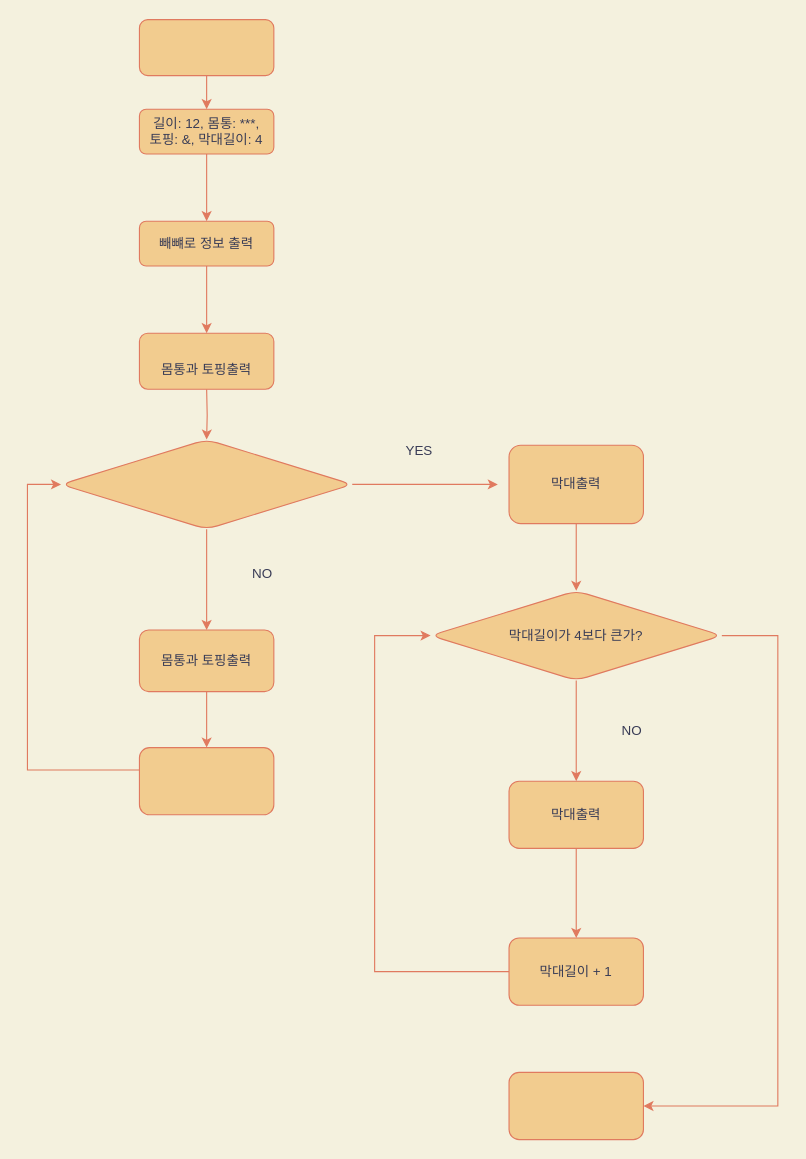
The diagram is 806 pixels wide and 1159 high, and some of its shapes have lost their labels. The shapes that lost their labels are listed below. From the top down, each one's box as (x1, y1, x2, y2) in pixels, then its label:
(138, 18, 274, 76): 빼빼로 입력받기
(60, 438, 352, 529): 몸통길이가 12보다 큰가?
(138, 746, 274, 815): 몸통길이 + 1
(508, 1071, 643, 1140): END
